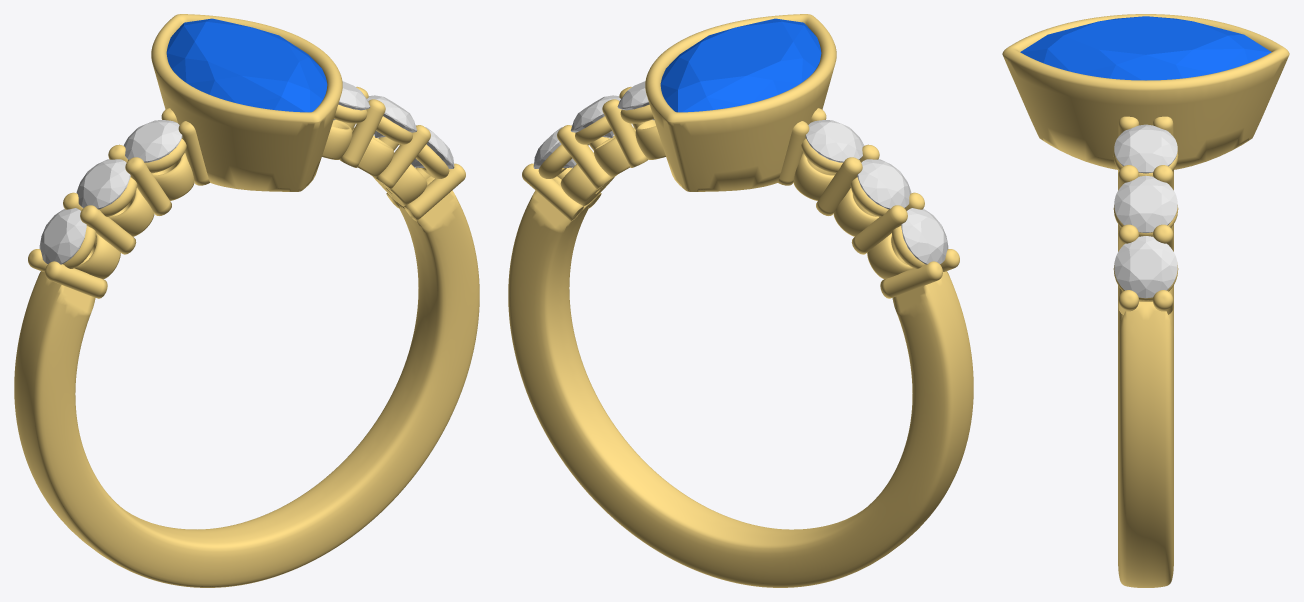
The model's file is bluesapphire-marquise-yellowgold-bezelset-straightband-7stone.glb.
3 views of the same model, side by side, from view 1: azimuth 30°, elevation 25°; view 2: azimuth 150°, elevation 25°; view 3: azimuth 270°, elevation 25° (orthographic).
Parts seen in each view (by area): view 1: metal.002, stone.002, side.002, side.013, side.014, side.016, side.017; view 2: metal.002, stone.002, side.002, side.013, side.014, side.016, side.017; view 3: metal.002, stone.002, side.015, side.016, side.017.
Part boxes in pixels (box(x1,y1,x2,y2)): metal.002: box(14, 14, 479, 587); stone.002: box(166, 18, 327, 112); side.002: box(39, 208, 86, 264); side.013: box(76, 159, 130, 209); side.014: box(123, 120, 182, 162); side.016: box(367, 95, 417, 137); side.017: box(333, 81, 370, 120); metal.002: box(508, 14, 973, 587); stone.002: box(660, 18, 821, 112); side.002: box(901, 208, 948, 264); side.013: box(857, 159, 911, 209); side.014: box(805, 120, 864, 162); side.016: box(570, 95, 620, 137); side.017: box(617, 81, 654, 120); metal.002: box(1002, 14, 1289, 587); stone.002: box(1020, 16, 1271, 80); side.015: box(1114, 236, 1177, 298); side.016: box(1114, 175, 1177, 232); side.017: box(1114, 124, 1177, 173).
Bounding box in the file's own units: 20.5 × 22.94 × 11.31.
